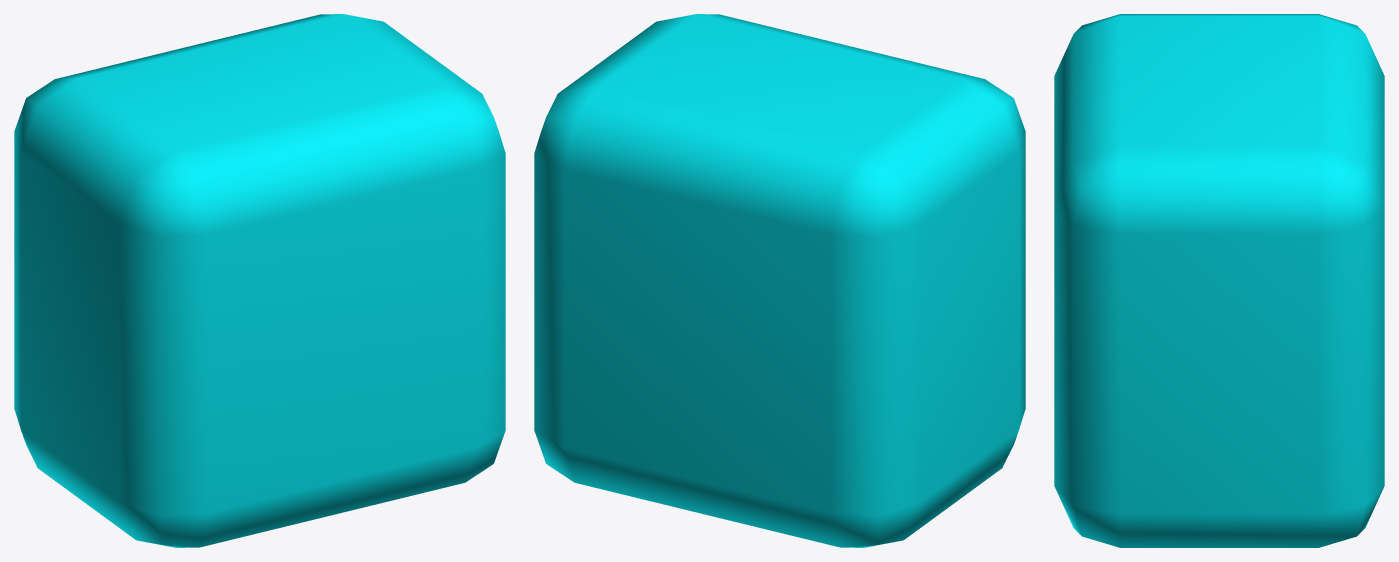
The model's file is interior_steering_wheel_turquoise_center_mark.glb.
The picture shows the model from 3 angles, left to right: view 1: azimuth 30°, elevation 25°; view 2: azimuth 150°, elevation 25°; view 3: azimuth 270°, elevation 25°; orthographic projection.
Visible parts, largest first — view 1: INTERIOR_Steering_Wheel_Turquoise_Center_Mark; view 2: INTERIOR_Steering_Wheel_Turquoise_Center_Mark; view 3: INTERIOR_Steering_Wheel_Turquoise_Center_Mark.
Boxes of the visible parts, <box> form: INTERIOR_Steering_Wheel_Turquoise_Center_Mark: <box>14,14,505,547</box>; INTERIOR_Steering_Wheel_Turquoise_Center_Mark: <box>534,14,1025,547</box>; INTERIOR_Steering_Wheel_Turquoise_Center_Mark: <box>1054,14,1384,547</box>.
Size of the model in its own units: 0.02 by 0.02 by 0.015.
